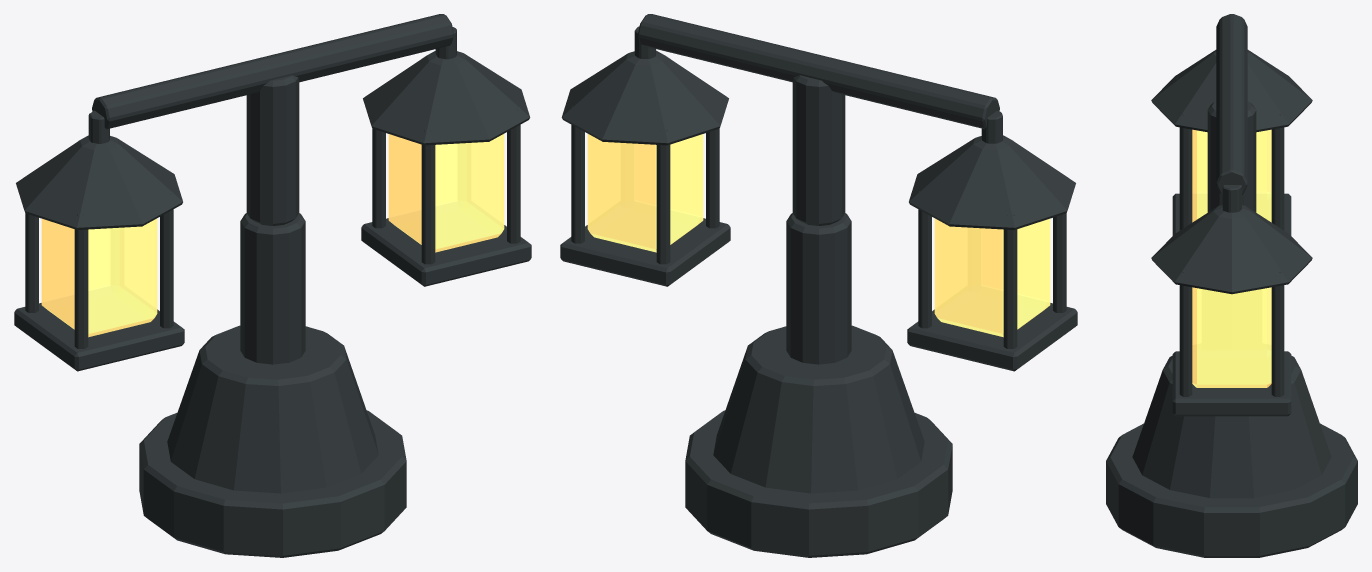
The model's file is runtime.glb.
3 renders of one model, left to right at view 1: azimuth 30°, elevation 25°; view 2: azimuth 150°, elevation 25°; view 3: azimuth 270°, elevation 25°, orthographic. The views are drawn at different scales.
Parts seen in each view (by area): view 1: eiffel-historic-lamp-v04_nocol; view 2: eiffel-historic-lamp-v04_nocol; view 3: eiffel-historic-lamp-v04_nocol.
Boxes of the visible parts, <box> form: eiffel-historic-lamp-v04_nocol: <box>14,14,531,557</box>; eiffel-historic-lamp-v04_nocol: <box>560,14,1077,557</box>; eiffel-historic-lamp-v04_nocol: <box>1106,14,1357,557</box>.
Bounding box in the file's own units: 2.29 × 1.97 × 1.08.
